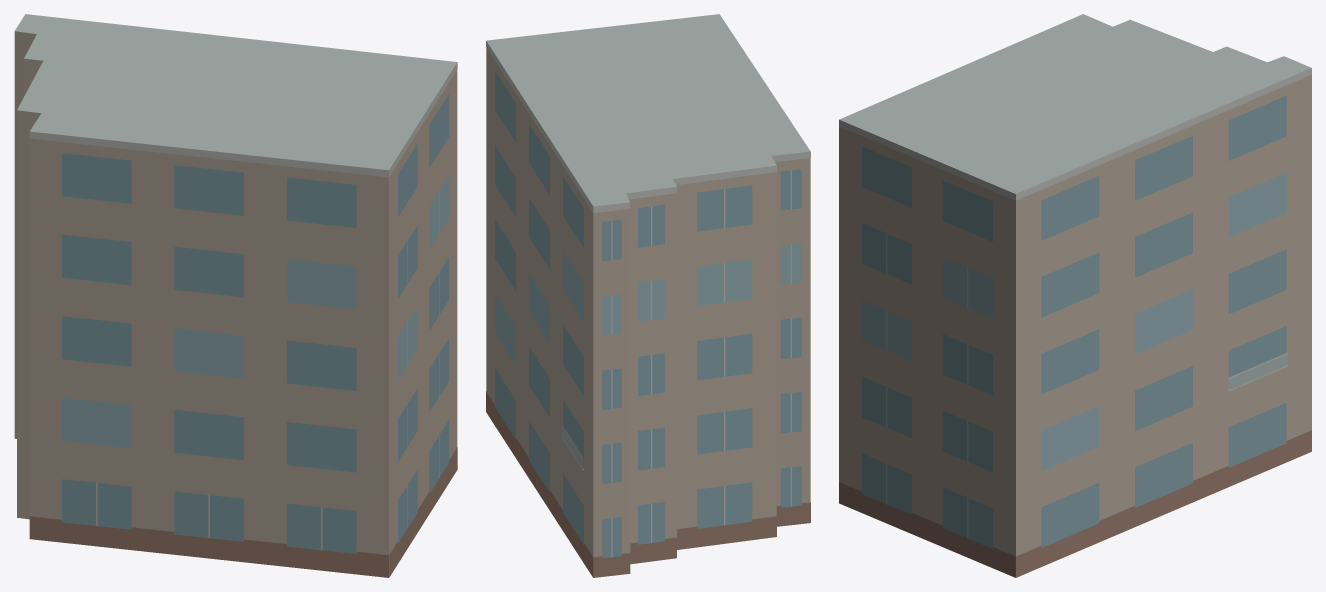
The model's file is survey-upis-32924924.glb.
3 renders of one model, left to right at view 1: azimuth 30°, elevation 25°; view 2: azimuth 150°, elevation 25°; view 3: azimuth 270°, elevation 25°, orthographic. The views are drawn at different scales.
Visible parts, largest first — view 1: survey-upis-32924924.tmp; view 2: survey-upis-32924924.tmp; view 3: survey-upis-32924924.tmp.
Boxes of the visible parts, bbox=[...] form: survey-upis-32924924.tmp: bbox=[14, 14, 457, 577]; survey-upis-32924924.tmp: bbox=[486, 14, 810, 577]; survey-upis-32924924.tmp: bbox=[839, 14, 1311, 577].
Size of the model in its own units: 14.1 by 14 by 15.64.
